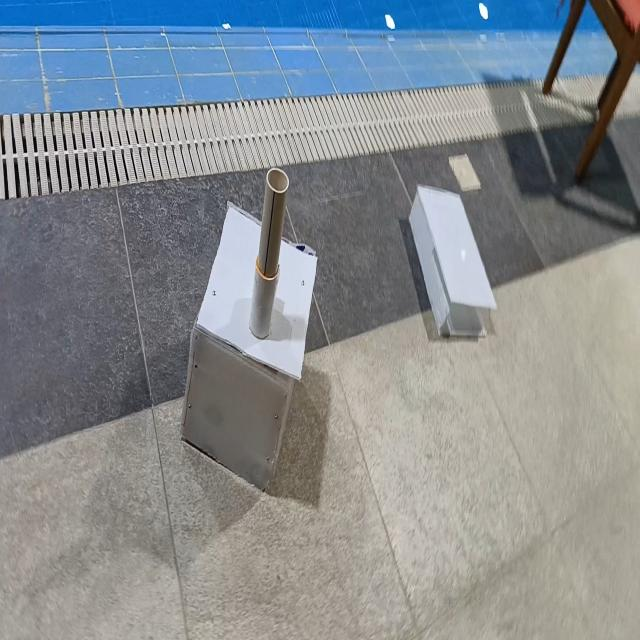Cube: (176, 200, 318, 498)
Cuboid: (408, 182, 497, 338)
